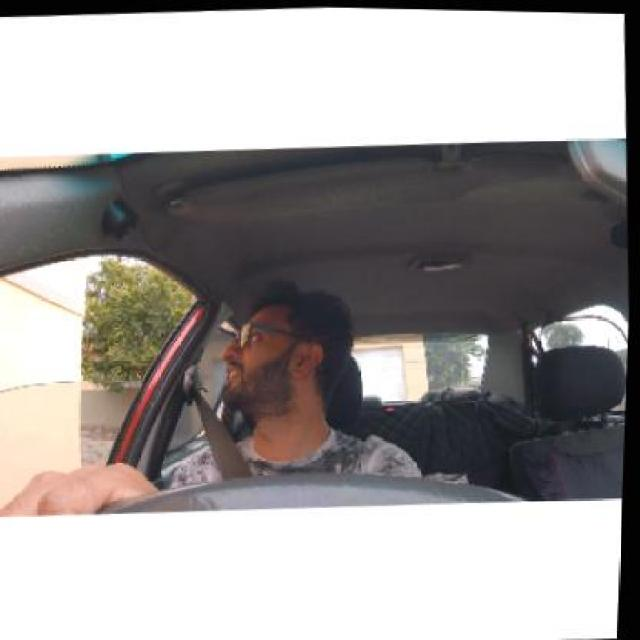LeftRight: (210, 293, 340, 420)
